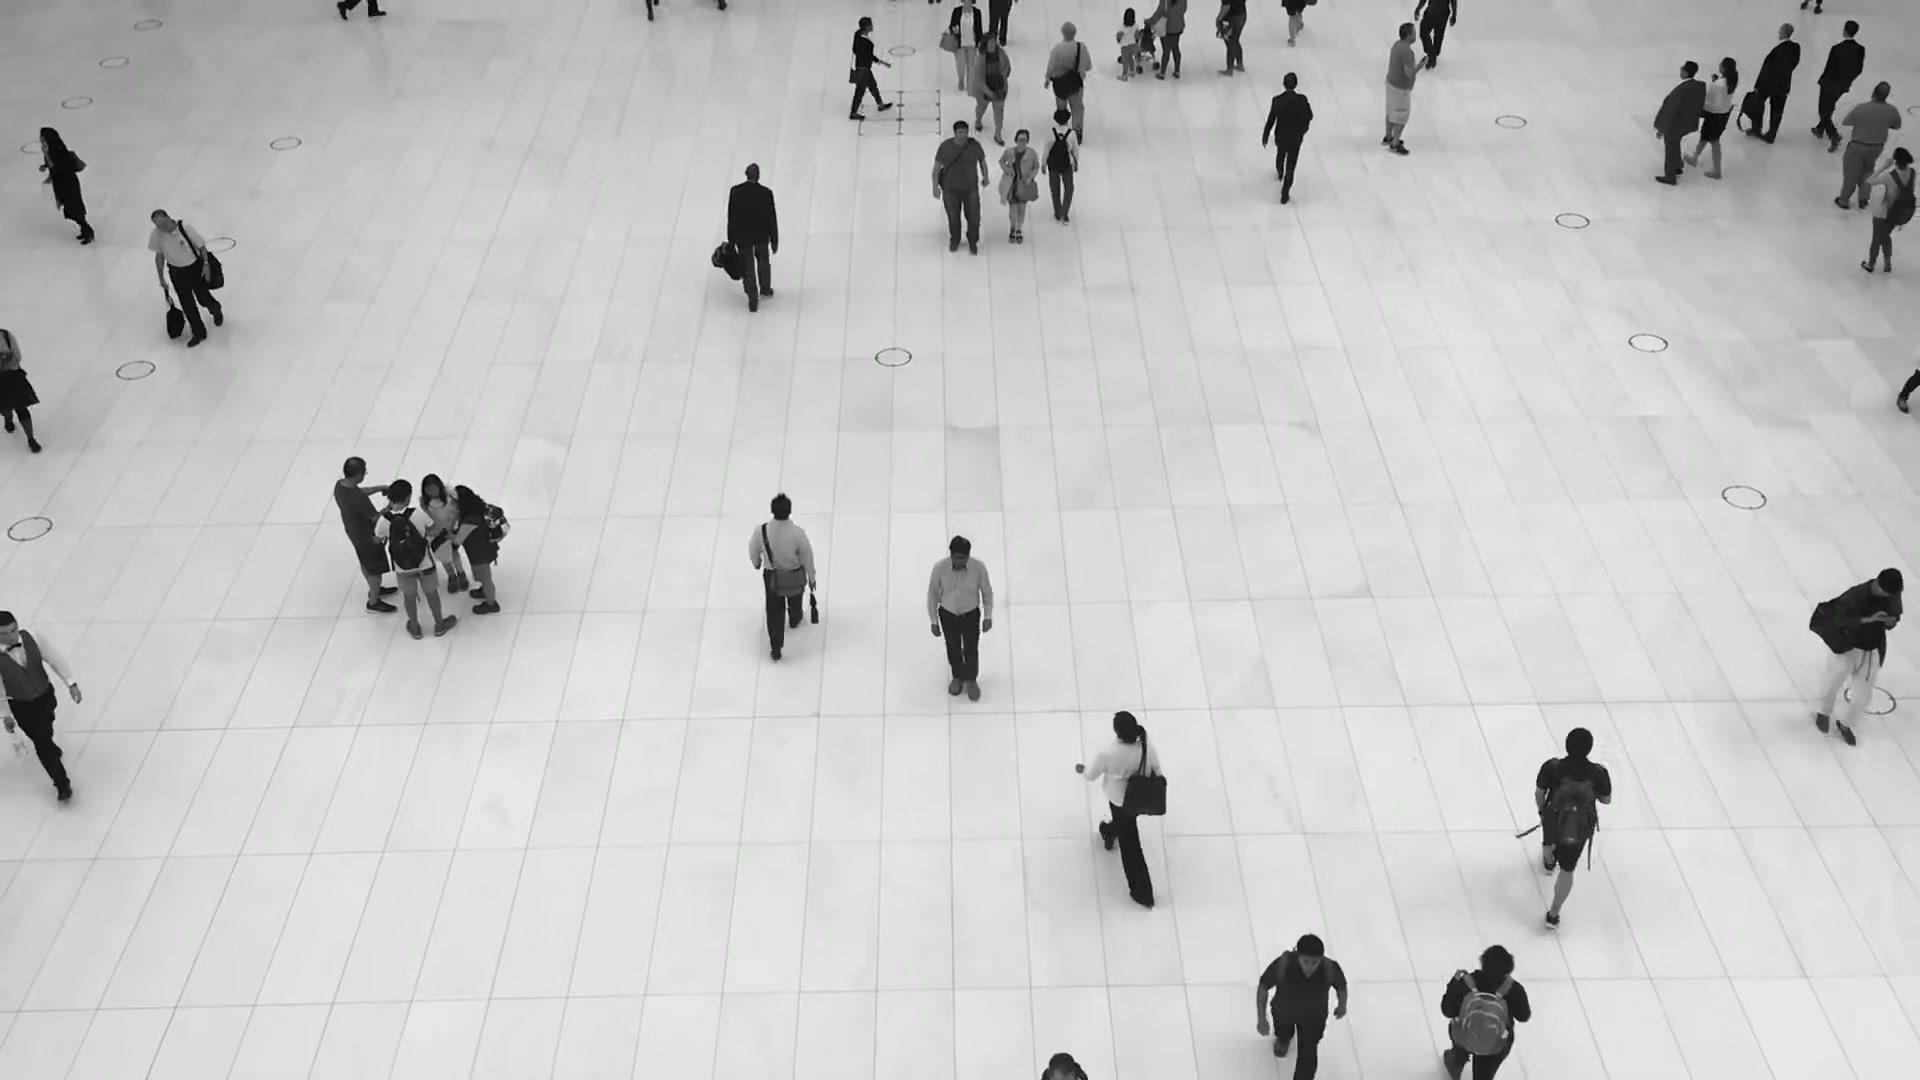person: (1810, 570, 1906, 757), (1076, 707, 1162, 902), (0, 612, 83, 805), (1530, 720, 1613, 910), (1437, 937, 1532, 1080), (378, 477, 460, 635), (926, 538, 996, 722), (1258, 935, 1349, 1074), (747, 488, 819, 645), (147, 207, 222, 347), (333, 456, 399, 609), (1834, 81, 1903, 216), (930, 121, 991, 263), (1638, 61, 1705, 189), (727, 164, 780, 319), (1858, 146, 1917, 281), (1738, 24, 1800, 148), (38, 125, 96, 246), (1811, 17, 1866, 144), (449, 483, 501, 615), (1262, 69, 1314, 201), (420, 470, 469, 593), (1686, 57, 1737, 181), (1380, 22, 1424, 155), (1044, 18, 1094, 133), (997, 129, 1040, 253), (1042, 108, 1082, 229), (972, 30, 1011, 143), (848, 14, 887, 117), (947, 0, 983, 96), (1115, 6, 1139, 81)
